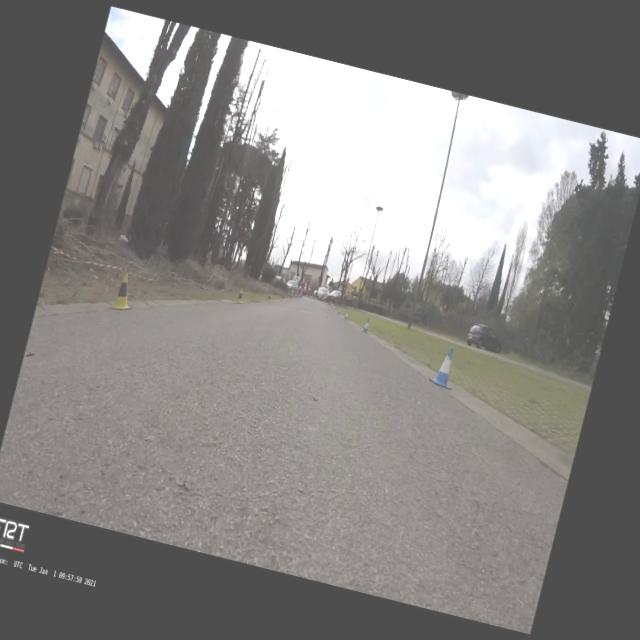blue_cone: (428, 344, 460, 390), (360, 317, 372, 334), (344, 312, 349, 320), (338, 308, 340, 314)
yellow_cone: (108, 270, 140, 312), (234, 288, 246, 304), (266, 294, 272, 302)
